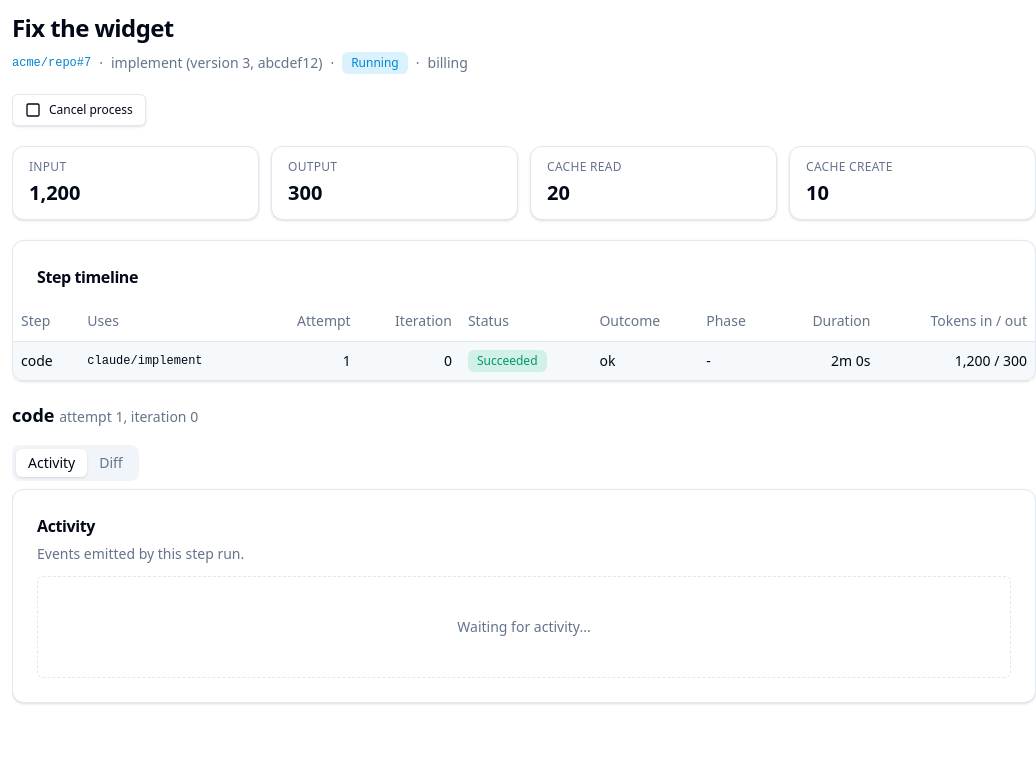
Test: ProcessDetailPage › actions › shows the server error when an action fails
The width and height of the screenshot is (1036, 780).
Click the button "Cancel process": (79, 110) [12,94,146,126]
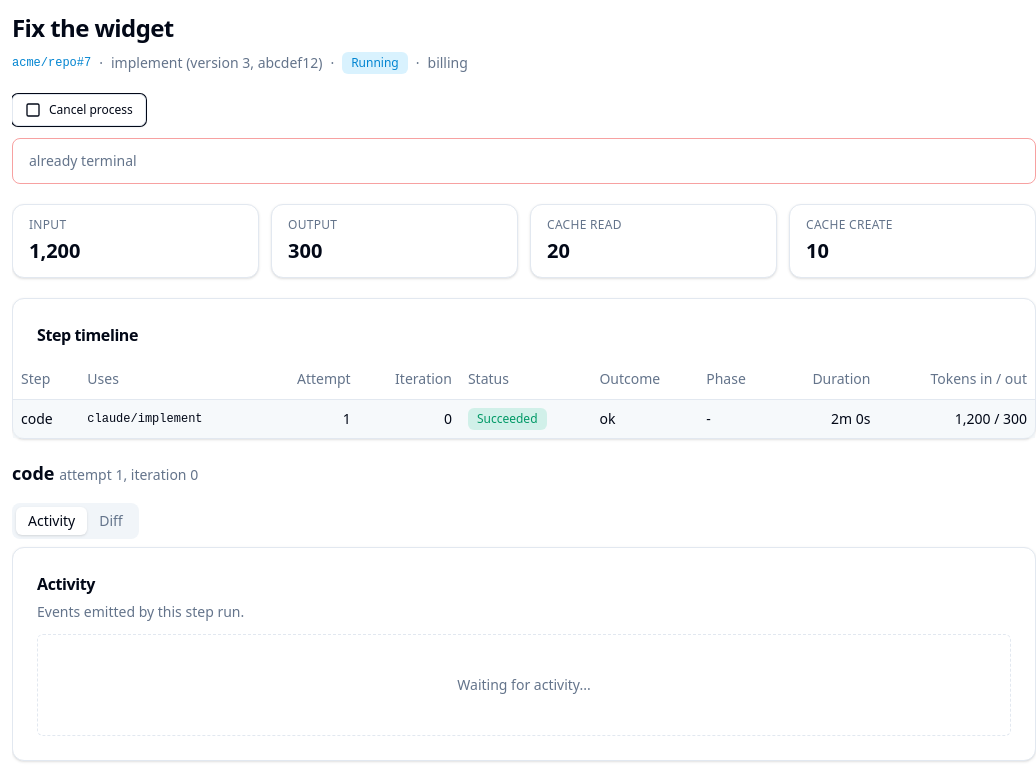
Now the message reads "already terminal", box [29,151,137,170]
